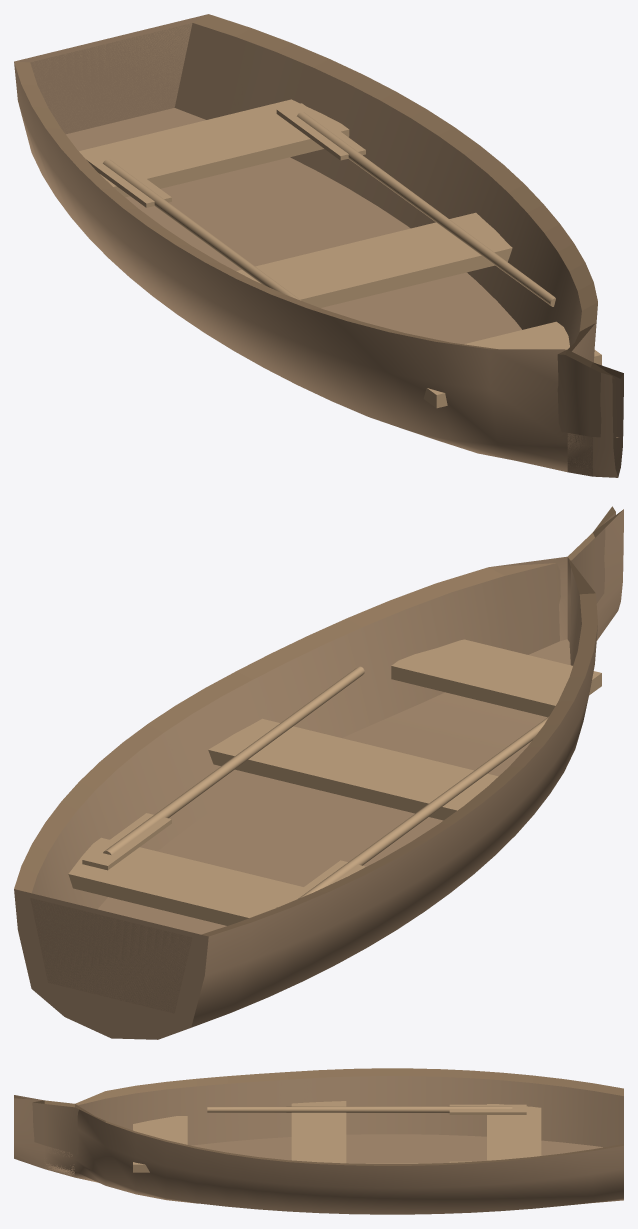
Rendered from boat_row.glb.
3 views of the same model, one above another, from view 1: azimuth 30°, elevation 25°; view 2: azimuth 150°, elevation 25°; view 3: azimuth 270°, elevation 25° (orthographic). The views are drawn at different scales.
Parts seen in each view (by area): view 1: BoatDeck, BoatHull, BoatBenches, BoatGunwale, RowBoatOars; view 2: BoatDeck, BoatHull, BoatBenches, BoatGunwale, RowBoatOars; view 3: BoatHull, BoatDeck, BoatBenches, BoatGunwale, RowBoatOars.
Part boxes in pixels (x1,y1,x2,y2): BoatDeck: (30, 23, 620, 437); BoatHull: (14, 14, 623, 477); BoatBenches: (79, 99, 601, 408); BoatGunwale: (14, 14, 623, 379); RowBoatOars: (83, 103, 555, 306); BoatDeck: (30, 512, 615, 1013); BoatHull: (14, 509, 623, 1039); BoatBenches: (68, 639, 601, 925); BoatGunwale: (14, 506, 622, 936); RowBoatOars: (82, 666, 548, 907); BoatHull: (14, 1095, 623, 1214); BoatDeck: (32, 1076, 623, 1163); BoatBenches: (133, 1101, 541, 1172); BoatGunwale: (14, 1068, 623, 1165); RowBoatOars: (207, 1104, 526, 1163).
Size of the model in its own units: 1.44 by 0.6615 by 3.8.
